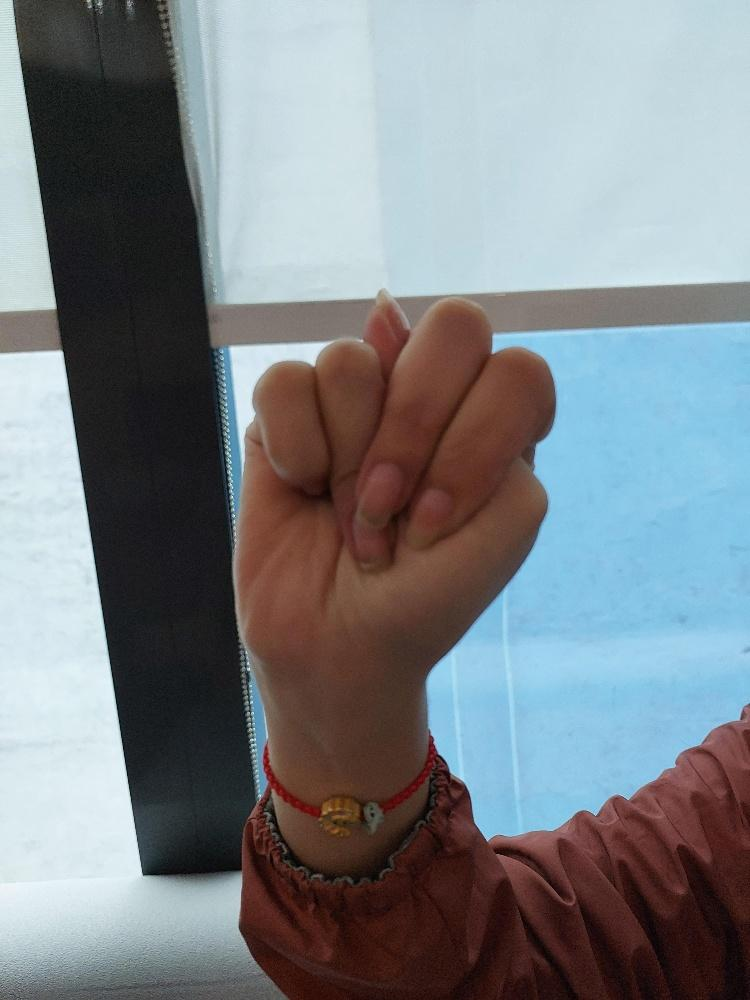n: (229, 281, 554, 681)
